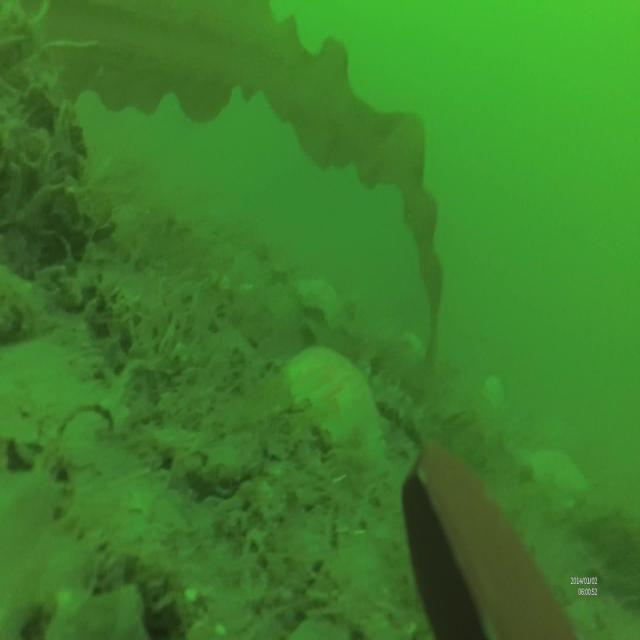starfish: (268, 345, 390, 462), (520, 440, 590, 510), (295, 272, 347, 330)
